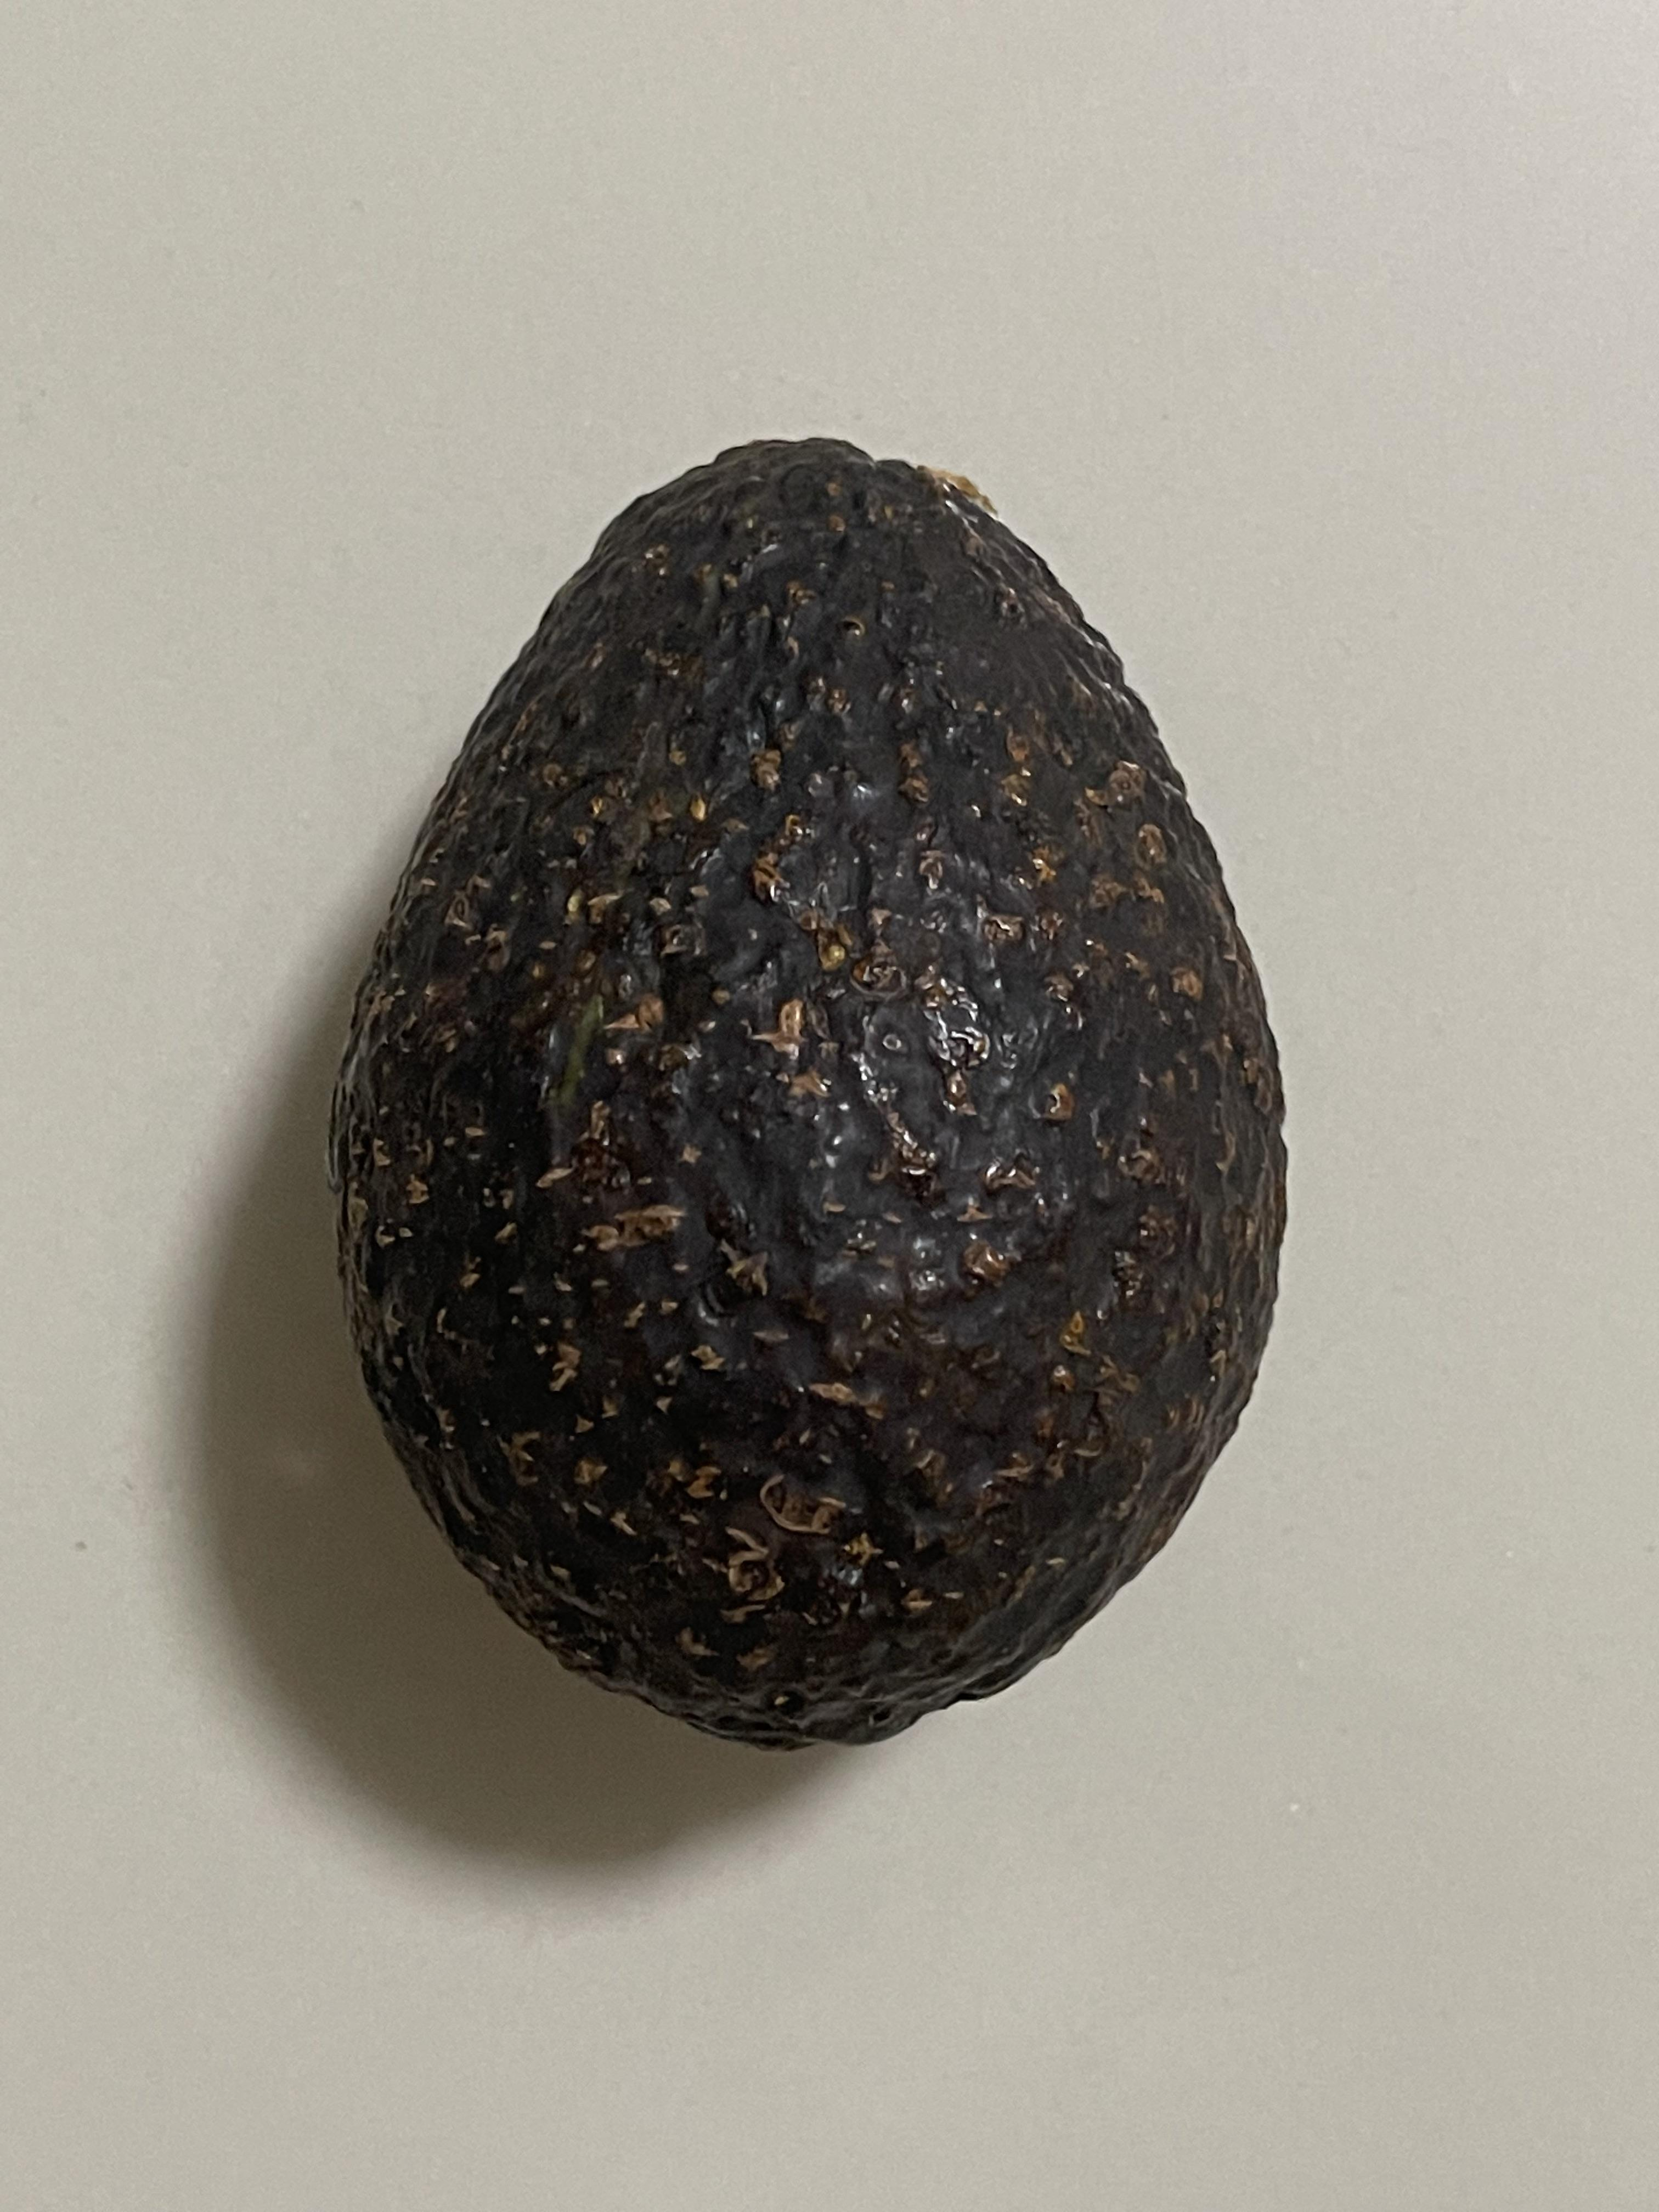Level3: (296, 401, 1321, 1778)
